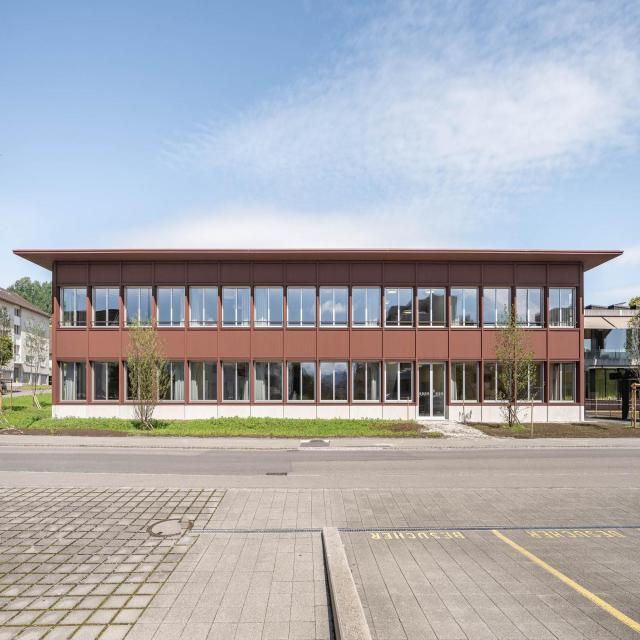door: (419, 361, 448, 418)
plant: (491, 302, 548, 418), (126, 312, 178, 419)
wall: (15, 250, 625, 419)
windows: (92, 358, 119, 400), (223, 358, 250, 400), (520, 360, 547, 402), (158, 284, 185, 325), (192, 284, 219, 325), (256, 359, 283, 400), (288, 359, 315, 400), (387, 286, 414, 327), (419, 287, 446, 328), (552, 360, 579, 401), (451, 362, 478, 403), (61, 283, 87, 325), (93, 283, 119, 325), (289, 285, 315, 327), (224, 284, 250, 326), (126, 358, 152, 400), (158, 358, 184, 400), (322, 286, 348, 328), (454, 286, 480, 328), (518, 288, 544, 330), (353, 361, 379, 403), (321, 362, 347, 404), (126, 284, 152, 325), (257, 286, 283, 327), (61, 359, 87, 400), (192, 358, 218, 399), (354, 286, 380, 327), (485, 287, 511, 328), (550, 288, 576, 329), (386, 362, 412, 403), (488, 359, 514, 400)
